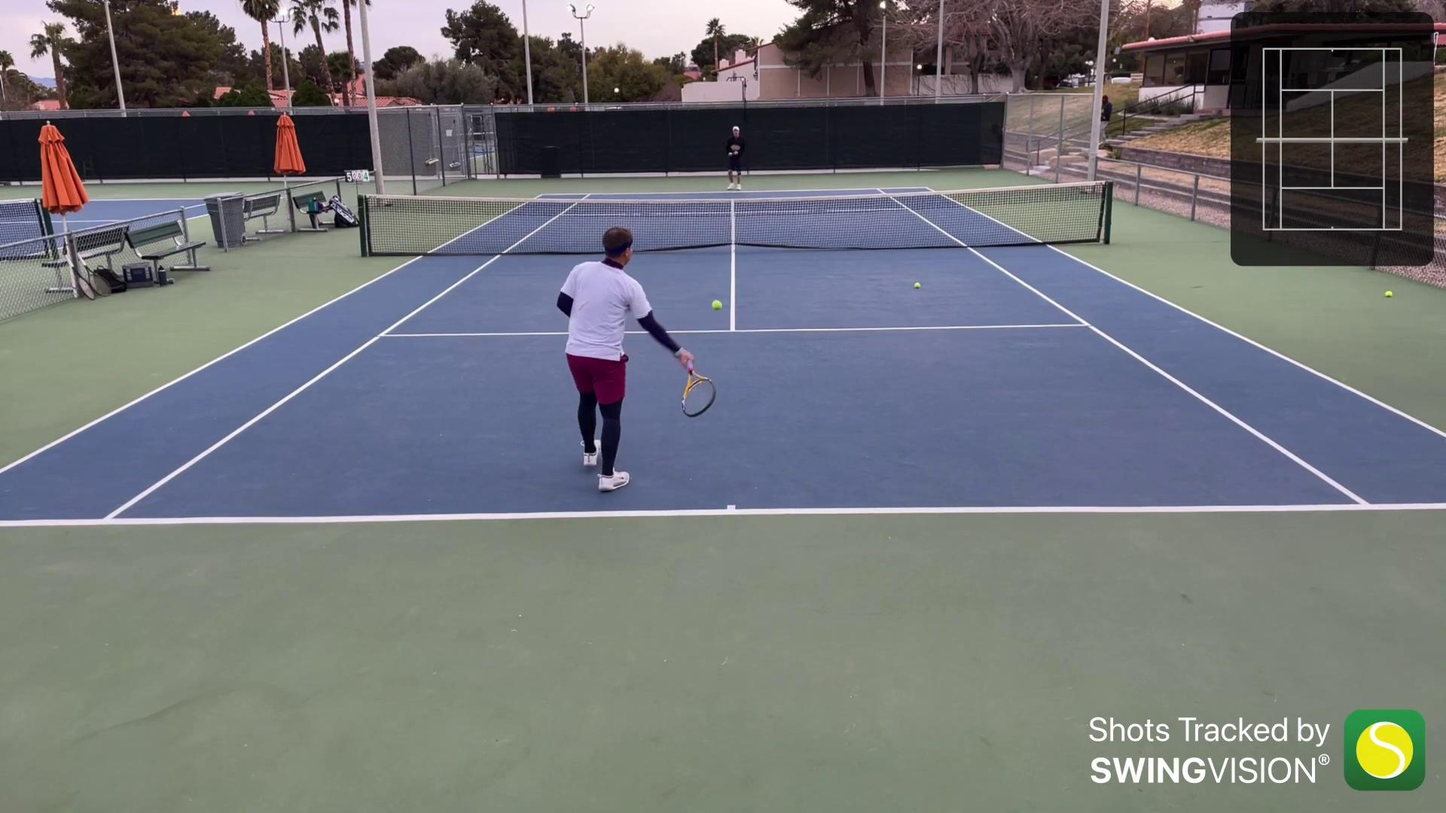ball: (1382, 289, 1393, 301), (712, 298, 721, 312), (913, 282, 922, 292)
